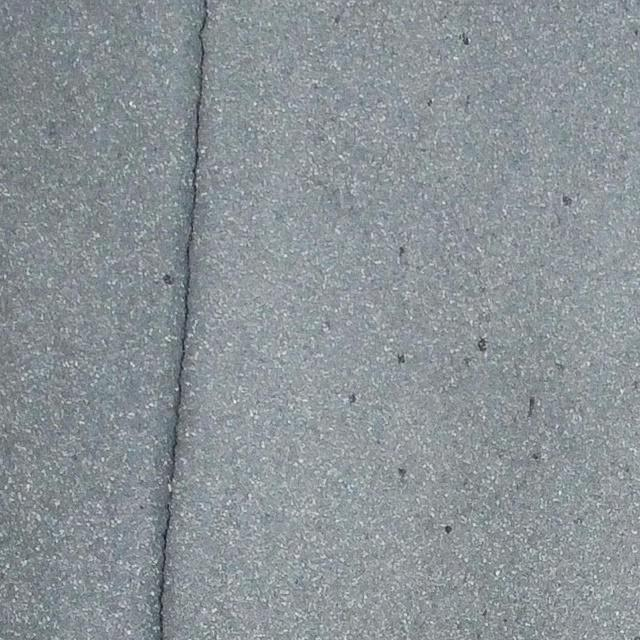LongitudinalCrack: (157, 1, 212, 638)
